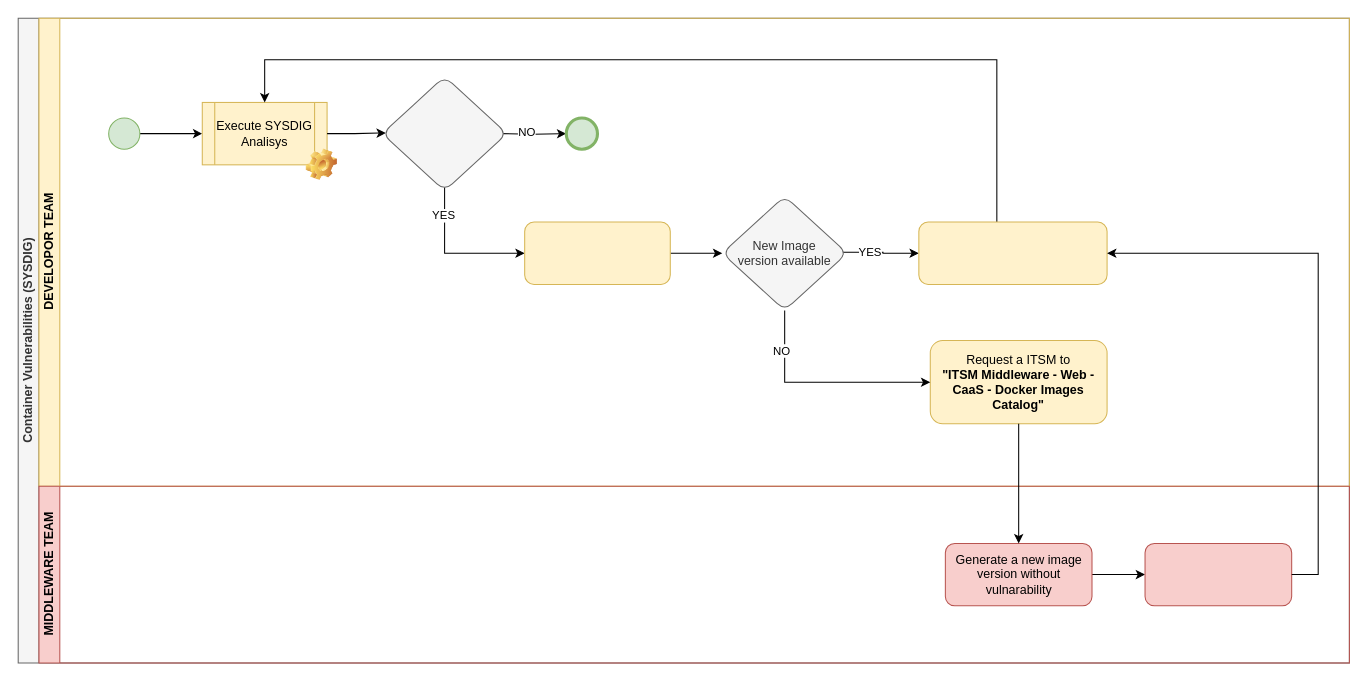
The diagram is 1368 pixels wide and 681 high, and some of its shapes have lost their labels. Each missing label, with the centre of its shape:
"Check Image Version in Dockerfile" goes at point (597, 252).
"Update Corporate Catalog Image" goes at point (1218, 574).
"Update latest version available in Dockerfile" goes at point (1012, 252).
"Vulnerability detected in Docker Image" goes at point (444, 133).
